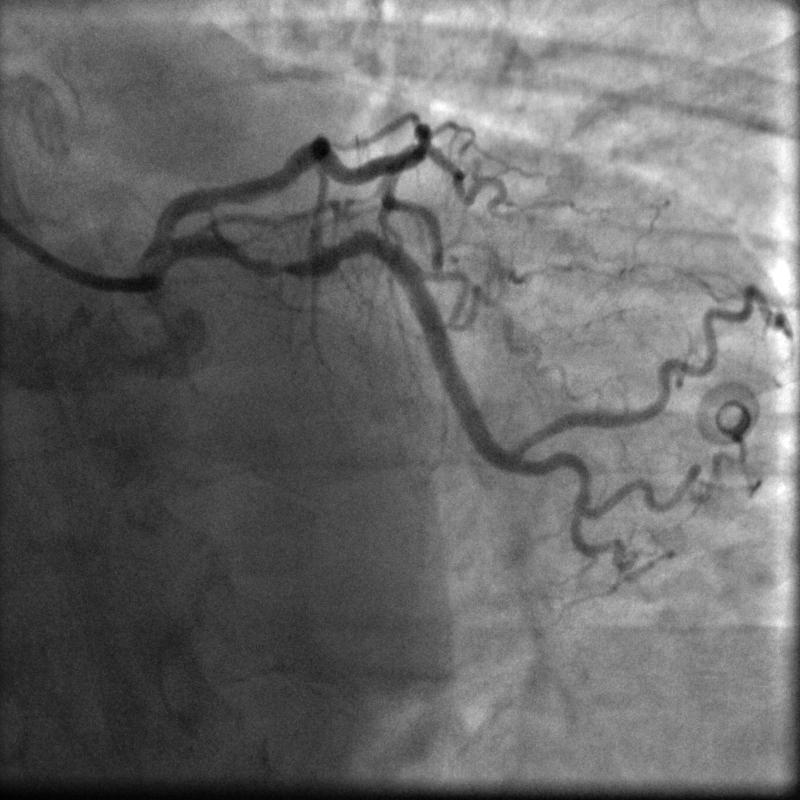Stenosis: (255, 254, 311, 280)
